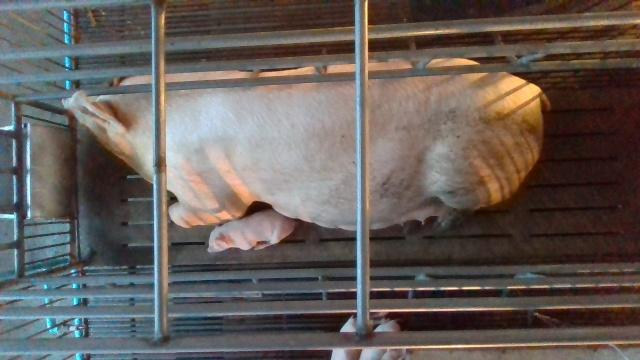piglet: (209, 209, 298, 252), (330, 315, 372, 360), (360, 318, 402, 360)
sow-sleep: (63, 56, 551, 232)
